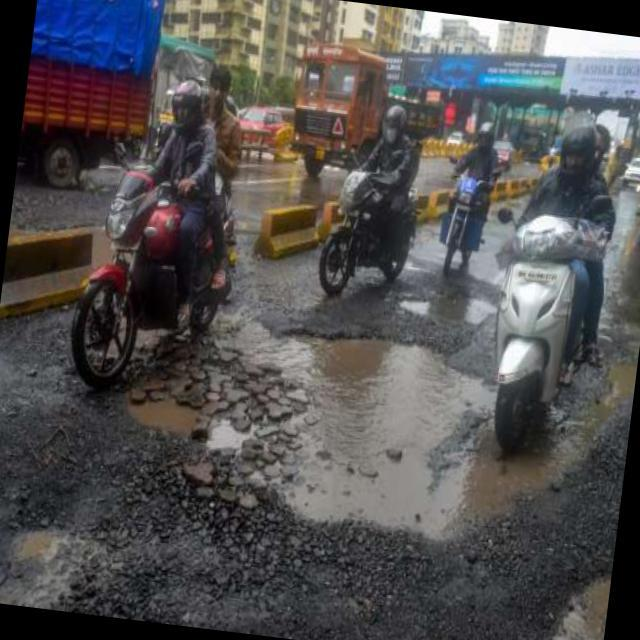Pothole: (127, 306, 570, 568), (0, 512, 95, 613), (576, 341, 636, 468), (534, 557, 610, 640)
